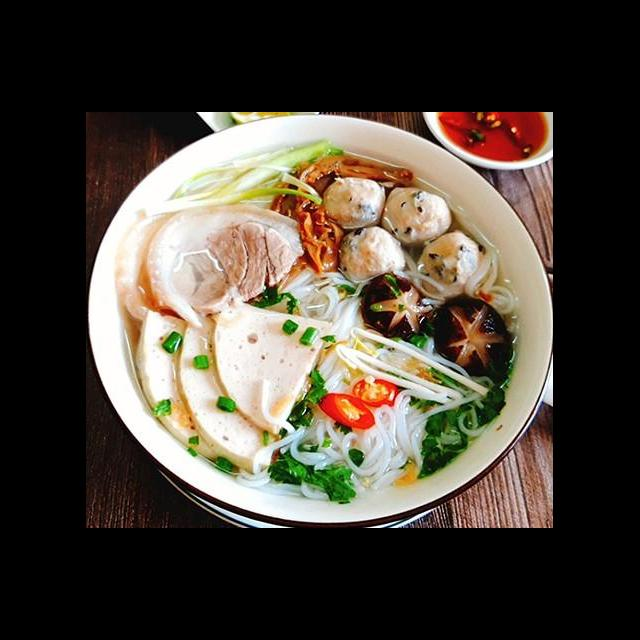bun: (234, 328, 498, 506), (270, 265, 372, 341)
bun moc: (106, 137, 554, 527)
thit heo: (142, 200, 312, 330)
vien moc: (378, 181, 452, 254), (336, 222, 414, 285), (416, 227, 484, 289), (318, 175, 390, 233)
